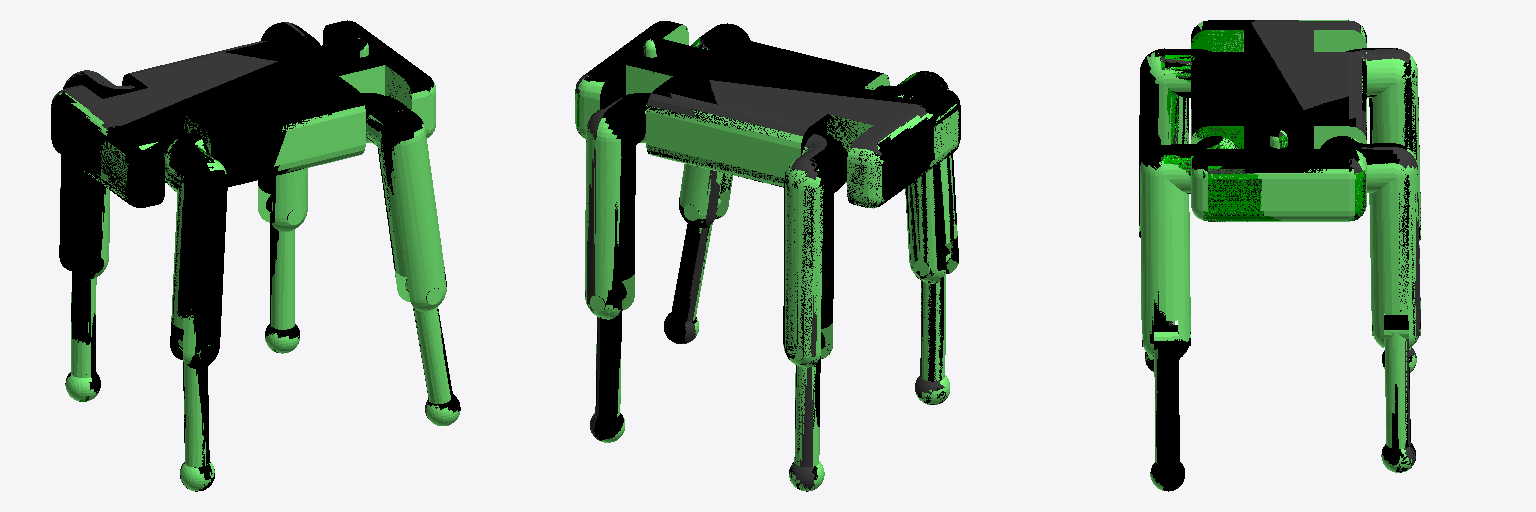
The robot description file, URDF, robot "quadruped_robot":
<?xml version="1.0" encoding="utf-8"?>
<!-- This URDF was automatically created by SolidWorks to URDF Exporter! Originally created by [author] ([email redacted]) 
     Commit Version: 1.6.0-4-g7f85cfe  Build Version: 1.6.7995.38578
     For more information, please see http://wiki.ros.org/sw_urdf_exporter -->
<robot
  name="quadruped_robot">
  <link
    name="body">
    <inertial>
      <origin
        xyz="-1.46356337563103E-07 -3.51552600363902E-08 1.14116540661513E-08"
        rpy="0 0 0" />
      <mass
        value="79.5537197619101" />
      <inertia
        ixx="1.64089584946242"
        ixy="3.23528256055048E-06"
        ixz="-5.94676453127047E-07"
        iyy="6.25234462192461"
        iyz="-1.08488706514317E-07"
        izz="7.38765675032663" />
    </inertial>
    <visual>
      <origin
        xyz="0 0 0"
        rpy="0 0 0" />
      <geometry>
        <mesh
          filename="package://quadruped_robot/meshes/body.STL" />
      </geometry>
      <material
        name="">
        <color
          rgba="0 0.752941176470588 0 1" />
      </material>
    </visual>
    <collision>
      <origin
        xyz="0 0 0"
        rpy="0 0 0" />
      <geometry>
        <mesh
          filename="package://quadruped_robot/meshes/body.STL" />
      </geometry>
    </collision>
  </link>
  <link
    name="front_right_thigh">
    <inertial>
      <origin
        xyz="0.0631841605156611 -0.0140938845807083 0.0562244576815387"
        rpy="0 0 0" />
      <mass
        value="2.85003532279257" />
      <inertia
        ixx="0.0130181531074912"
        ixy="0.000348055845302443"
        ixz="-0.00138851689790659"
        iyy="0.0125988308050032"
        iyz="0.00142242382887273"
        izz="0.00728094257251726" />
    </inertial>
    <visual>
      <origin
        xyz="0 0 0"
        rpy="0 0 0" />
      <geometry>
        <mesh
          filename="package://quadruped_robot/meshes/front_right_thigh.STL" />
      </geometry>
      <material
        name="">
        <color
          rgba="0.250980392156863 0.250980392156863 0.250980392156863 1" />
      </material>
    </visual>
    <collision>
      <origin
        xyz="0 0 0"
        rpy="0 0 0" />
      <geometry>
        <mesh
          filename="package://quadruped_robot/meshes/front_right_thigh.STL" />
      </geometry>
    </collision>
  </link>
  <joint
    name="front_right_thigh_joint"
    type="revolute">
    <origin
      xyz="0.24988 -0.18 0"
      rpy="1.3364 0 0" />
    <parent
      link="body" />
    <child
      link="front_right_thigh" />
    <axis
      xyz="-1 0 0" />
    <limit
      lower="-3.142"
      upper="3.142"
      effort="0"
      velocity="0" />
  </joint>
  <link
    name="front_right_leg">
    <inertial>
      <origin
        xyz="0.0858075880091789 -0.274386624401192 -0.0220457366644032"
        rpy="0 0 0" />
      <mass
        value="6.9381686574405" />
      <inertia
        ixx="0.134972149319534"
        ixy="-0.0337211101903498"
        ixz="0.00607269451018088"
        iyy="0.030889997795707"
        iyz="0.020592041651515"
        izz="0.141529606841831" />
    </inertial>
    <visual>
      <origin
        xyz="0 0 0"
        rpy="0 0 0" />
      <geometry>
        <mesh
          filename="package://quadruped_robot/meshes/front_right_leg.STL" />
      </geometry>
      <material
        name="">
        <color
          rgba="0.501960784313725 1 0.501960784313725 1" />
      </material>
    </visual>
    <collision>
      <origin
        xyz="0 0 0"
        rpy="0 0 0" />
      <geometry>
        <mesh
          filename="package://quadruped_robot/meshes/front_right_leg.STL" />
      </geometry>
    </collision>
  </link>
  <joint
    name="front_right_leg_joint"
    type="revolute">
    <origin
      xyz="0 0 0"
      rpy="-2.9656 -1.5699 3.1416" />
    <parent
      link="front_right_thigh" />
    <child
      link="front_right_leg" />
    <axis
      xyz="0.96999 -0.23939 0.042598" />
    <limit
      lower="-3.14"
      upper="3.14"
      effort="0"
      velocity="0" />
  </joint>
  <link
    name="front_right_shin">
    <inertial>
      <origin
        xyz="0.00418914190493158 0.23566779303797 -0.0633269158639955"
        rpy="0 0 0" />
      <mass
        value="2.18909067780491" />
      <inertia
        ixx="0.0467383352046175"
        ixy="-0.00903914771720584"
        ixz="0.00667319774583945"
        iyy="0.020672751397194"
        iyz="0.0216040171949114"
        izz="0.0339991887478004" />
    </inertial>
    <visual>
      <origin
        xyz="0 0 0"
        rpy="0 0 0" />
      <geometry>
        <mesh
          filename="package://quadruped_robot/meshes/front_right_shin.STL" />
      </geometry>
      <material
        name="">
        <color
          rgba="0 0 0 1" />
      </material>
    </visual>
    <collision>
      <origin
        xyz="0 0 0"
        rpy="0 0 0" />
      <geometry>
        <mesh
          filename="package://quadruped_robot/meshes/front_right_shin.STL" />
      </geometry>
    </collision>
  </link>
  <joint
    name="front_right_shin_joint"
    type="revolute">
    <origin
      xyz="-0.02707 -0.5123 -0.069163"
      rpy="0.79708 0 -3.1416" />
    <parent
      link="front_right_leg" />
    <child
      link="front_right_shin" />
    <axis
      xyz="-0.96999 0.19775 -0.14147" />
    <limit
      lower="-3.14"
      upper="3.14"
      effort="0"
      velocity="0" />
  </joint>
  <link
    name="front_left_thigh">
    <inertial>
      <origin
        xyz="0.063184161475395 -0.00512856543969809 0.0577366868658614"
        rpy="0 0 0" />
      <mass
        value="2.8500353343221" />
      <inertia
        ixx="0.0130181530639505"
        ixy="0.000126648746459907"
        ixz="-0.00142586185017246"
        iyy="0.0129081788411086"
        iyz="0.000531521185502727"
        izz="0.00697159449339958" />
    </inertial>
    <visual>
      <origin
        xyz="0 0 0"
        rpy="0 0 0" />
      <geometry>
        <mesh
          filename="package://quadruped_robot/meshes/front_left_thigh.STL" />
      </geometry>
      <material
        name="">
        <color
          rgba="0.250980392156863 0.250980392156863 0.250980392156863 1" />
      </material>
    </visual>
    <collision>
      <origin
        xyz="0 0 0"
        rpy="0 0 0" />
      <geometry>
        <mesh
          filename="package://quadruped_robot/meshes/front_left_thigh.STL" />
      </geometry>
    </collision>
  </link>
  <joint
    name="front_left_thigh_joint"
    type="revolute">
    <origin
      xyz="0.249882405181029 0.18 0"
      rpy="-1.64194996163522 0 0" />
    <parent
      link="body" />
    <child
      link="front_left_thigh" />
    <axis
      xyz="-1 0 0" />
    <limit
      lower="-3.14"
      upper="3.14"
      effort="0"
      velocity="0" />
  </joint>
  <link
    name="front_left_leg">
    <inertial>
      <origin
        xyz="0.136969074450681 -0.190796822136722 -0.116184197817902"
        rpy="0 0 0" />
      <mass
        value="6.93816849077714" />
      <inertia
        ixx="0.144608795065026"
        ixy="0.00556110077343386"
        ixz="0.00338551617403583"
        iyy="0.0520734369969958"
        iyz="-0.0567169675239779"
        izz="0.110709512173605" />
    </inertial>
    <visual>
      <origin
        xyz="0 0 0"
        rpy="0 0 0" />
      <geometry>
        <mesh
          filename="package://quadruped_robot/meshes/front_left_leg.STL" />
      </geometry>
      <material
        name="">
        <color
          rgba="0.501960784313725 1 0.501960784313725 1" />
      </material>
    </visual>
    <collision>
      <origin
        xyz="0 0 0"
        rpy="0 0 0" />
      <geometry>
        <mesh
          filename="package://quadruped_robot/meshes/front_left_leg.STL" />
      </geometry>
    </collision>
  </link>
  <joint
    name="front_left_leg_joint"
    type="revolute">
    <origin
      xyz="0.070219 0 0.0315"
      rpy="-0.54504 -1.5699 -3.1416" />
    <parent
      link="front_left_thigh" />
    <child
      link="front_left_leg" />
    <axis
      xyz="0.99608 0.075661 0.045868" />
    <limit
      lower="-3.14"
      upper="3.14"
      effort="0"
      velocity="0" />
  </joint>
  <link
    name="front_left_shin">
    <inertial>
      <origin
        xyz="-0.147003063307667 0.311100364863869 0.19908214791875"
        rpy="0 0 0" />
      <mass
        value="2.18909081108663" />
      <inertia
        ixx="0.0491815057728991"
        ixy="0.000910327003178677"
        ixz="0.00409887323092259"
        iyy="0.0477028312815452"
        iyz="-0.0100895709041585"
        izz="0.0045259428443968" />
    </inertial>
    <visual>
      <origin
        xyz="0 0 0"
        rpy="0 0 0" />
      <geometry>
        <mesh
          filename="package://quadruped_robot/meshes/front_left_shin.STL" />
      </geometry>
      <material
        name="">
        <color
          rgba="0 0 0 1" />
      </material>
    </visual>
    <collision>
      <origin
        xyz="0 0 0"
        rpy="0 0 0" />
      <geometry>
        <mesh
          filename="package://quadruped_robot/meshes/front_left_shin.STL" />
      </geometry>
    </collision>
  </link>
  <joint
    name="front_left_shin_joint"
    type="revolute">
    <origin
      xyz="0.028460525371978 -0.5 0"
      rpy="-1.89034893239217 0 3.14159265358979" />
    <parent
      link="front_left_leg" />
    <child
      link="front_left_shin" />
    <axis
      xyz="-0.996078094500597 -0.0197781632448234 -0.0862395148103312" />
    <limit
      lower="-3.14"
      upper="3.14"
      effort="0"
      velocity="0" />
  </joint>
  <link
    name="back_right_thigh">
    <inertial>
      <origin
        xyz="0.0631841598357021 0.0203660978690759 0.0542683084618216"
        rpy="0 0 0" />
      <mass
        value="2.85003531462536" />
      <inertia
        ixx="0.0130181531384223"
        ixy="-0.000502965372963859"
        ixz="-0.00134020445069207"
        iyy="0.0122108504715142"
        iyz="-0.0019839347377104"
        izz="0.00766892293626462" />
    </inertial>
    <visual>
      <origin
        xyz="0 0 0"
        rpy="0 0 0" />
      <geometry>
        <mesh
          filename="package://quadruped_robot/meshes/back_right_thigh.STL" />
      </geometry>
      <material
        name="">
        <color
          rgba="0.250980392156863 0.250980392156863 0.250980392156863 1" />
      </material>
    </visual>
    <collision>
      <origin
        xyz="0 0 0"
        rpy="0 0 0" />
      <geometry>
        <mesh
          filename="package://quadruped_robot/meshes/back_right_thigh.STL" />
      </geometry>
    </collision>
  </link>
  <joint
    name="back_right_thigh_joint"
    type="revolute">
    <origin
      xyz="-0.249882405181029 -0.18 0"
      rpy="-1.2050955352319 0 3.14159265358979" />
    <parent
      link="body" />
    <child
      link="back_right_thigh" />
    <axis
      xyz="-1 0 0" />
    <limit
      lower="-3.14"
      upper="3.14"
      effort="0"
      velocity="0" />
  </joint>
  <link
    name="back_right_leg">
    <inertial>
      <origin
        xyz="0.180550581891122 -0.226034533866513 -0.155393066583193"
        rpy="0 0 0" />
      <mass
        value="6.93816860410077" />
      <inertia
        ixx="0.125886482107115"
        ixy="-0.0374979912734983"
        ixz="-0.0257815829989208"
        iyy="0.0712450069693681"
        iyz="-0.0508733067288939"
        izz="0.11026026024829" />
    </inertial>
    <visual>
      <origin
        xyz="0 0 0"
        rpy="0 0 0" />
      <geometry>
        <mesh
          filename="package://quadruped_robot/meshes/back_right_leg.STL" />
      </geometry>
      <material
        name="">
        <color
          rgba="0.501960784313725 1 0.501960784313725 1" />
      </material>
    </visual>
    <collision>
      <origin
        xyz="0 0 0"
        rpy="0 0 0" />
      <geometry>
        <mesh
          filename="package://quadruped_robot/meshes/back_right_leg.STL" />
      </geometry>
    </collision>
  </link>
  <joint
    name="back_right_leg_joint"
    type="revolute">
    <origin
      xyz="0.070365 0 -0.12536"
      rpy="-0.60192 -1.5699 -3.1416" />
    <parent
      link="back_right_thigh" />
    <child
      link="back_right_leg" />
    <axis
      xyz="0.93624 -0.28957 -0.199" />
    <limit
      lower="-3.14"
      upper="3.14"
      effort="0"
      velocity="0" />
  </joint>
  <link
    name="back_right_shin">
    <inertial>
      <origin
        xyz="-0.0283079043897123 0.396345744991786 0.111537059182777"
        rpy="0 0 0" />
      <mass
        value="2.18909068675098" />
      <inertia
        ixx="0.0436733373732954"
        ixy="0.0138428755756602"
        ixz="-0.00734715609615314"
        iyy="0.0170538588260163"
        iyz="0.0174528345983278"
        izz="0.0406830797923565" />
    </inertial>
    <visual>
      <origin
        xyz="0 0 0"
        rpy="0 0 0" />
      <geometry>
        <mesh
          filename="package://quadruped_robot/meshes/back_right_shin.STL" />
      </geometry>
      <material
        name="">
        <color
          rgba="0 0 0 1" />
      </material>
    </visual>
    <collision>
      <origin
        xyz="0 0 0"
        rpy="0 0 0" />
      <geometry>
        <mesh
          filename="package://quadruped_robot/meshes/back_right_shin.STL" />
      </geometry>
    </collision>
  </link>
  <joint
    name="back_right_shin_joint"
    type="revolute">
    <origin
      xyz="0.041106 -0.5 0"
      rpy="-2.0613 0 0" />
    <parent
      link="back_right_leg" />
    <child
      link="back_right_shin" />
    <axis
      xyz="-0.93624 -0.31194 0.16169" />
    <limit
      lower="-3.14"
      upper="3.14"
      effort="0"
      velocity="0" />
  </joint>
  <link
    name="back_left_thigh">
    <inertial>
      <origin
        xyz="0.0631841616572668 -0.0109554744949077 0.0569192829063254"
        rpy="0 0 0" />
      <mass
        value="2.8500353369203" />
      <inertia
        ixx="0.013018153344184"
        ixy="0.000270563053479321"
        ixz="-0.00140567375050099"
        iyy="0.012739947525615"
        iyz="0.00111934520870139"
        izz="0.00713982598282035" />
    </inertial>
    <visual>
      <origin
        xyz="0 0 0"
        rpy="0 0 0" />
      <geometry>
        <mesh
          filename="package://quadruped_robot/meshes/back_left_thigh.STL" />
      </geometry>
      <material
        name="">
        <color
          rgba="0.250980392156863 0.250980392156863 0.250980392156863 1" />
      </material>
    </visual>
    <collision>
      <origin
        xyz="0 0 0"
        rpy="0 0 0" />
      <geometry>
        <mesh
          filename="package://quadruped_robot/meshes/back_left_thigh.STL" />
      </geometry>
    </collision>
  </link>
  <joint
    name="back_left_thigh_joint"
    type="revolute">
    <origin
      xyz="-0.249882405181029 0.18 0"
      rpy="1.36200189468701 0 3.14159265358979" />
    <parent
      link="body" />
    <child
      link="back_left_thigh" />
    <axis
      xyz="-1 0 0" />
    <limit
      lower="-3.14"
      upper="3.14"
      effort="0"
      velocity="0" />
  </joint>
  <link
    name="back_left_leg">
    <inertial>
      <origin
        xyz="0.0194306734672526 -0.259701123554023 -0.0271757080780708"
        rpy="0 0 0" />
      <mass
        value="6.93816847911244" />
      <inertia
        ixx="0.13843403763036"
        ixy="-0.0279314764539319"
        ixz="-0.00294621941506812"
        iyy="0.0250565740252852"
        iyz="-0.012674791437667"
        izz="0.143901132066975" />
    </inertial>
    <visual>
      <origin
        xyz="0 0 0"
        rpy="0 0 0" />
      <geometry>
        <mesh
          filename="package://quadruped_robot/meshes/back_left_leg.STL" />
      </geometry>
      <material
        name="">
        <color
          rgba="0.501960784313725 1 0.501960784313725 1" />
      </material>
    </visual>
    <collision>
      <origin
        xyz="0 0 0"
        rpy="0 0 0" />
      <geometry>
        <mesh
          filename="package://quadruped_robot/meshes/back_left_leg.STL" />
      </geometry>
    </collision>
  </link>
  <joint
    name="back_left_leg_joint"
    type="revolute">
    <origin
      xyz="0.0701724686163078 0 0.0810726777394658"
      rpy="3.04358892179118 -1.56986563009081 -3.14159265358249" />
    <parent
      link="back_left_thigh" />
    <child
      link="back_left_leg" />
    <axis
      xyz="0.98197618745736 -0.188099372550818 -0.0184768317818711" />
    <limit
      lower="-3.14"
      upper="3.14"
      effort="0"
      velocity="0" />
  </joint>
  <link
    name="back_left_shin">
    <inertial>
      <origin
        xyz="-0.0722642497205996 0.18652636979793 0.134149204221555"
        rpy="0 0 0" />
      <mass
        value="2.1890918917642" />
      <inertia
        ixx="0.0478525423423424"
        ixy="0.008167208903878"
        ixz="0.0033889293989778"
        iyy="0.0104195575101628"
        iyz="-0.0164013864415941"
        izz="0.0431381999151762" />
    </inertial>
    <visual>
      <origin
        xyz="0 0 0"
        rpy="0 0 0" />
      <geometry>
        <mesh
          filename="package://quadruped_robot/meshes/back_left_shin.STL" />
      </geometry>
      <material
        name="">
        <color
          rgba="0 0 0 1" />
      </material>
    </visual>
    <collision>
      <origin
        xyz="0 0 0"
        rpy="0 0 0" />
      <geometry>
        <mesh
          filename="package://quadruped_robot/meshes/back_left_shin.STL" />
      </geometry>
    </collision>
  </link>
  <joint
    name="back_left_shin_joint"
    type="revolute">
    <origin
      xyz="0 -0.5 0"
      rpy="2.84405277747574 0 0" />
    <parent
      link="back_left_leg" />
    <child
      link="back_left_shin" />
    <axis
      xyz="-0.98197618745736 -0.174417566004741 -0.0728098889965498" />
    <limit
      lower="-3.14"
      upper="3.14"
      effort="0"
      velocity="0" />
  </joint>
</robot>

--- What the picture shows (computed from the rendered views, not written in the file) ---
Views: 3 orthographic renders of the robot side by side, from view 1: azimuth 30°, elevation 25°; view 2: azimuth 150°, elevation 25°; view 3: azimuth 270°, elevation 25°.
Robot: quadruped_robot — 13 links, 12 joints (12 revolute); root link body; default pose: all joints at 0.
Links seen in each view (by area): view 1: front_right_shin, back_right_leg, back_right_shin, front_right_thigh, front_left_leg, front_right_leg, front_left_shin; view 2: front_left_leg, front_right_shin, front_right_thigh, back_right_shin, front_right_leg, front_left_shin, back_right_leg; view 3: back_right_leg, back_right_shin, front_right_thigh, front_right_shin, front_right_leg, body, front_left_leg, front_left_shin, back_left_shin.
Link boxes in pixels (bbox=[...]): front_right_shin: bbox=[51, 20, 373, 491]; back_right_leg: bbox=[86, 43, 459, 490]; back_right_shin: bbox=[86, 21, 460, 479]; front_right_thigh: bbox=[54, 22, 428, 468]; front_left_leg: bbox=[51, 65, 425, 485]; front_right_leg: bbox=[59, 38, 359, 482]; front_left_shin: bbox=[51, 70, 427, 488]; front_left_leg: bbox=[585, 25, 959, 491]; front_right_shin: bbox=[584, 39, 960, 479]; front_right_thigh: bbox=[576, 40, 944, 489]; back_right_shin: bbox=[583, 21, 959, 463]; front_right_leg: bbox=[578, 26, 950, 488]; front_left_shin: bbox=[586, 28, 959, 491]; back_right_leg: bbox=[588, 121, 957, 419]; back_right_leg: bbox=[1140, 30, 1420, 490]; back_right_shin: bbox=[1140, 20, 1420, 485]; front_right_thigh: bbox=[1169, 20, 1420, 467]; front_right_shin: bbox=[1139, 20, 1415, 491]; front_right_leg: bbox=[1139, 20, 1420, 361]; body: bbox=[1160, 30, 1365, 221]; front_left_leg: bbox=[1164, 26, 1420, 472]; front_left_shin: bbox=[1172, 25, 1420, 472]; back_left_shin: bbox=[1160, 35, 1364, 220].
Bounding box of the posed robot: 1.01 × 0.8033 × 1.09 m (x, y, z).
13 mesh visuals loaded from 13 distinct referenced files (13 binary STL).